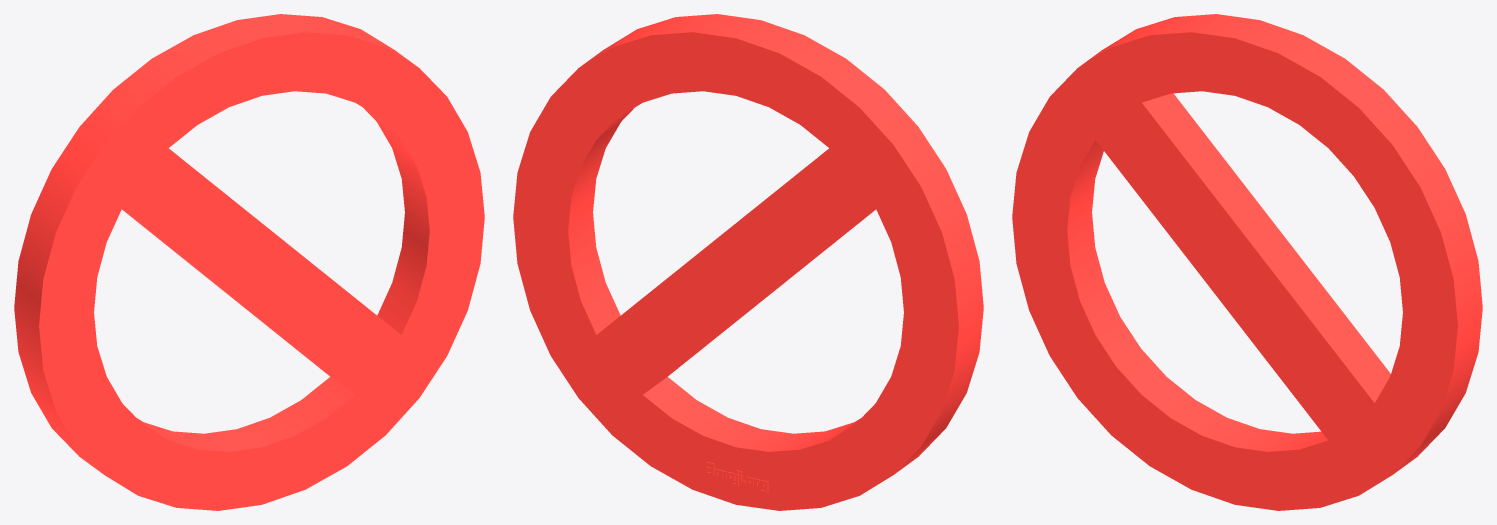
The model's file is prohibited.gltf.
The picture shows the model from 3 angles, left to right: view 1: azimuth 30°, elevation 25°; view 2: azimuth 150°, elevation 25°; view 3: azimuth 330°, elevation 25°; orthographic projection.
Visible parts, largest first — view 1: Circle.2618; view 2: Circle.2618; view 3: Circle.2618.
Part boxes in pixels (x1,y1,x2,y2): Circle.2618: (14,14,484,510); Circle.2618: (513,14,983,510); Circle.2618: (1012,14,1482,510).
Bounding box in the file's own units: 1.92 × 1.92 × 0.1901.
Materials: 1 (1 with a texture image).
